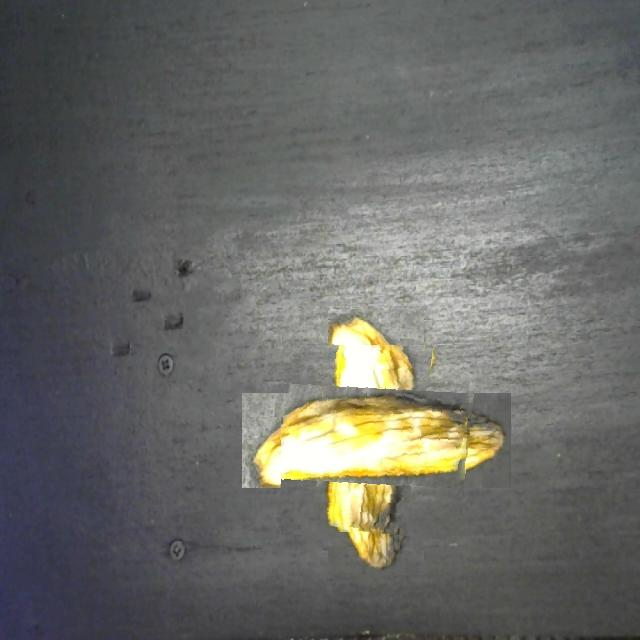biodegradable: (281, 345, 472, 536)
